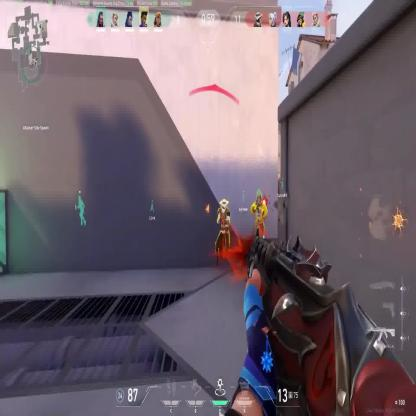enemy: (213, 199, 234, 267), (250, 189, 268, 268)
enemy_head: (219, 199, 229, 209), (256, 188, 262, 204)
